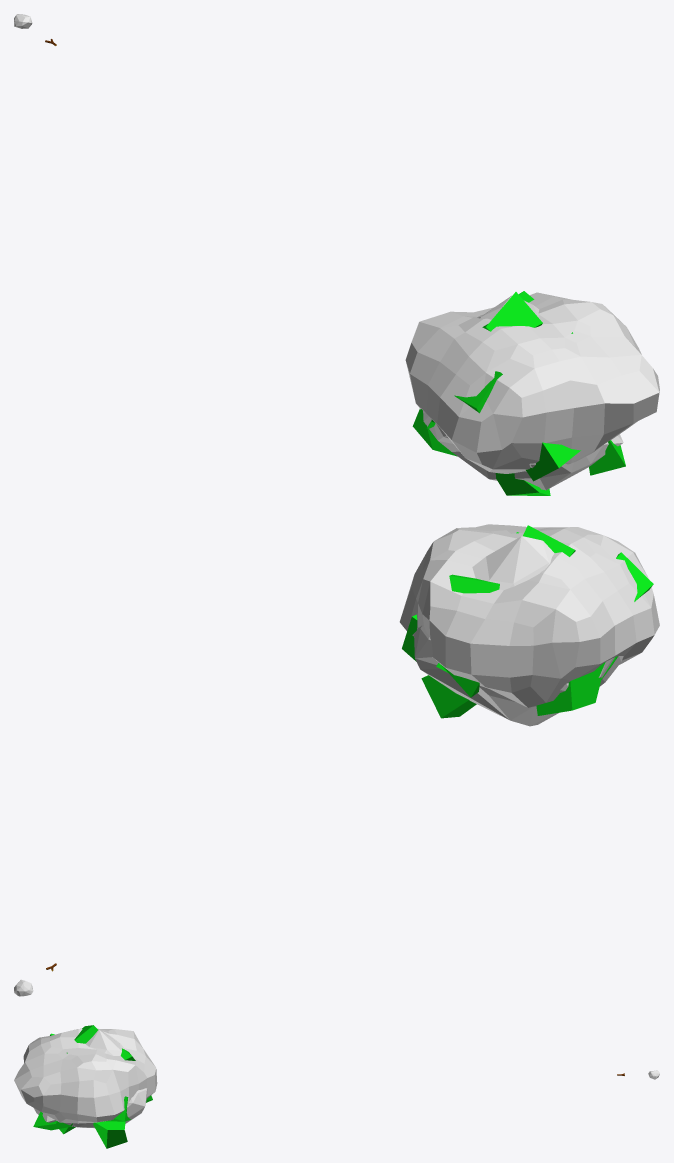
The model's file is Rocks_Ores_Stick.fbx.
The picture shows the model from 3 angles, top to bottom: view 1: azimuth 30°, elevation 25°; view 2: azimuth 150°, elevation 25°; view 3: azimuth 270°, elevation 25°; orthographic projection. The views are drawn at different scales.
Visible parts, largest first — view 1: HugeStone, OreStone02; view 2: HugeStone, OreStone02; view 3: HugeStone, OreStone02.
Part boxes in pixels (x1=…): HugeStone: x1=405, y1=292, x2=659, y2=473; OreStone02: x1=412, y1=291, x2=625, y2=495; HugeStone: x1=399, y1=524, x2=659, y2=707; OreStone02: x1=402, y1=525, x2=653, y2=726; HugeStone: x1=14, y1=1028, x2=157, y2=1123; OreStone02: x1=33, y1=1025, x2=152, y2=1148.
Bounding box in the file's own units: 524 × 456 × 2457.
